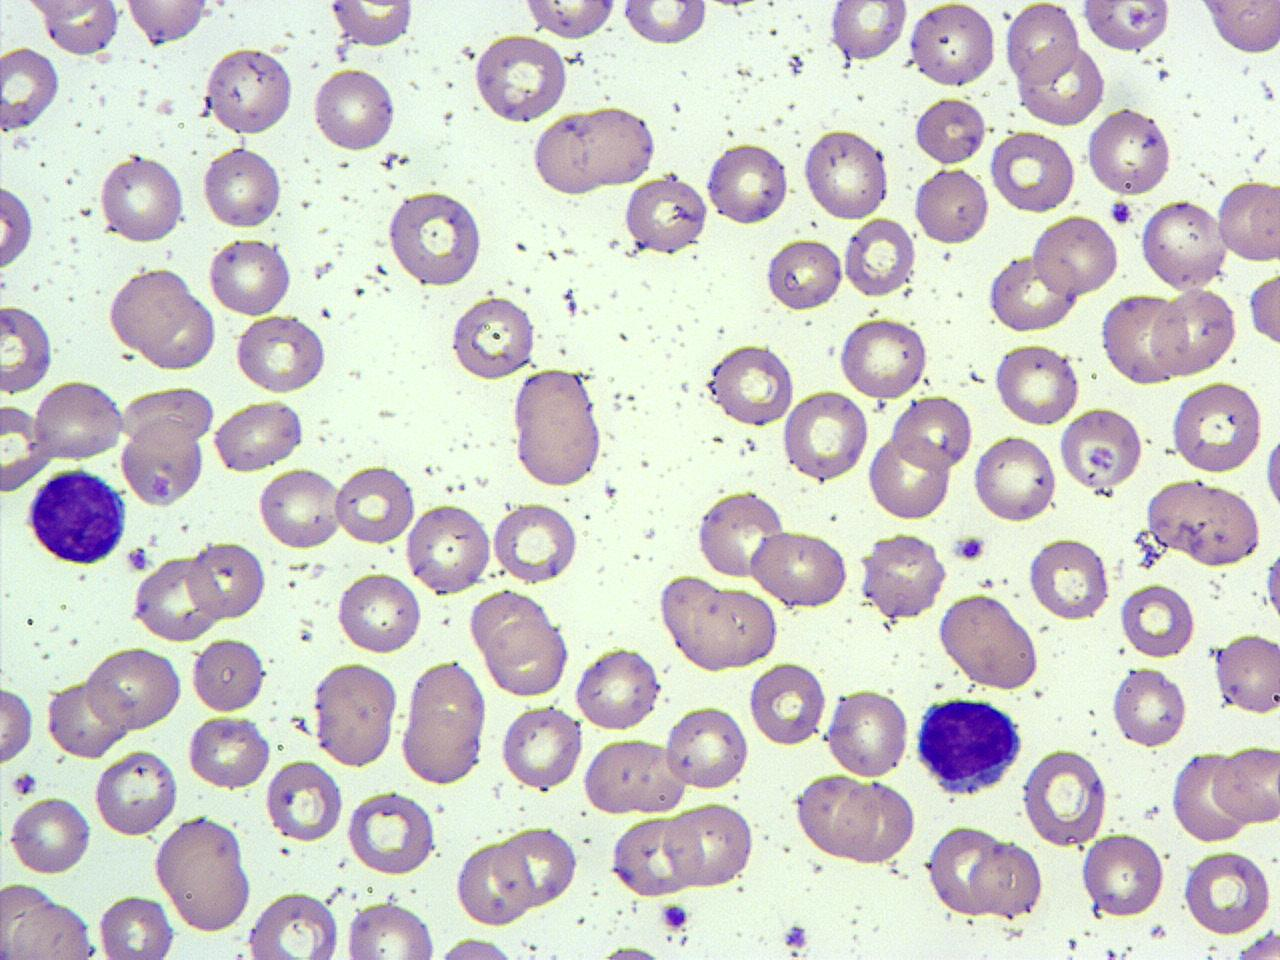Platelets: (658, 899, 691, 932), (953, 534, 987, 562), (10, 770, 40, 798), (782, 922, 810, 950), (1107, 199, 1135, 227), (126, 545, 149, 573), (312, 261, 332, 280), (788, 52, 804, 71), (562, 287, 577, 305)
RBC: (151, 812, 254, 933), (510, 365, 604, 489), (399, 658, 488, 788), (1143, 478, 1263, 568), (936, 592, 1040, 692), (384, 188, 485, 288), (310, 659, 399, 770), (83, 644, 184, 735), (676, 584, 780, 673), (1020, 744, 1107, 850), (1169, 379, 1263, 475), (402, 500, 494, 598), (471, 33, 569, 124), (693, 488, 789, 580), (1138, 198, 1230, 292), (800, 126, 890, 222), (662, 800, 756, 890), (854, 530, 948, 620), (824, 685, 912, 782), (578, 736, 682, 817), (1181, 847, 1275, 937), (205, 46, 295, 138), (780, 389, 870, 482), (96, 154, 186, 245), (131, 552, 220, 644), (345, 790, 437, 878), (1085, 104, 1173, 198), (232, 312, 329, 396), (93, 746, 180, 839), (572, 644, 662, 734), (750, 528, 850, 609), (447, 294, 538, 383), (1079, 829, 1167, 921), (1098, 292, 1184, 385), (973, 434, 1059, 526), (836, 317, 930, 401), (335, 569, 424, 657), (117, 419, 208, 507), (1149, 286, 1237, 377), (706, 343, 797, 430), (31, 378, 124, 464), (609, 814, 701, 898), (992, 340, 1080, 428), (907, 3, 998, 89), (865, 433, 952, 520), (664, 703, 750, 793), (654, 570, 734, 666), (311, 66, 398, 153), (5, 793, 94, 878), (206, 234, 294, 320), (498, 702, 583, 792), (490, 502, 581, 586), (105, 266, 193, 352), (928, 821, 1006, 918), (794, 770, 878, 860), (703, 140, 789, 227), (622, 172, 710, 257), (1026, 536, 1112, 622), (990, 128, 1076, 213), (1031, 214, 1119, 297), (202, 142, 284, 231), (210, 398, 306, 474), (1170, 749, 1248, 843), (572, 104, 658, 189), (257, 465, 343, 550), (496, 822, 578, 911), (987, 253, 1077, 333), (1015, 43, 1105, 123), (45, 677, 129, 761), (1058, 406, 1142, 491), (334, 462, 417, 547), (454, 838, 532, 928), (484, 618, 570, 698), (837, 777, 916, 864), (748, 661, 826, 748), (890, 392, 974, 474), (263, 758, 343, 844), (1110, 664, 1188, 750), (245, 889, 341, 960), (186, 538, 267, 622), (186, 712, 272, 790), (118, 381, 215, 449), (141, 288, 218, 372), (1004, 2, 1080, 85), (764, 234, 844, 313), (912, 165, 990, 246), (190, 634, 267, 716), (841, 216, 915, 299), (1119, 580, 1197, 658), (530, 113, 602, 199), (5, 894, 96, 960), (1210, 742, 1278, 830), (342, 899, 438, 960), (976, 837, 1045, 921), (1214, 630, 1280, 718), (95, 890, 176, 960), (0, 43, 61, 134), (1215, 179, 1280, 265), (913, 94, 987, 166), (0, 302, 55, 395), (1080, 0, 1172, 54), (829, 0, 910, 62), (36, 0, 121, 57), (1, 403, 54, 494), (1197, 0, 1279, 57), (519, 0, 621, 42), (122, 0, 210, 48), (328, 0, 413, 49), (620, 0, 708, 47), (0, 181, 35, 273), (0, 681, 35, 769), (1247, 268, 1279, 352), (430, 934, 520, 960)
WBC: (911, 694, 1025, 797), (24, 465, 129, 568), (857, 532, 948, 620), (0, 888, 100, 960)
